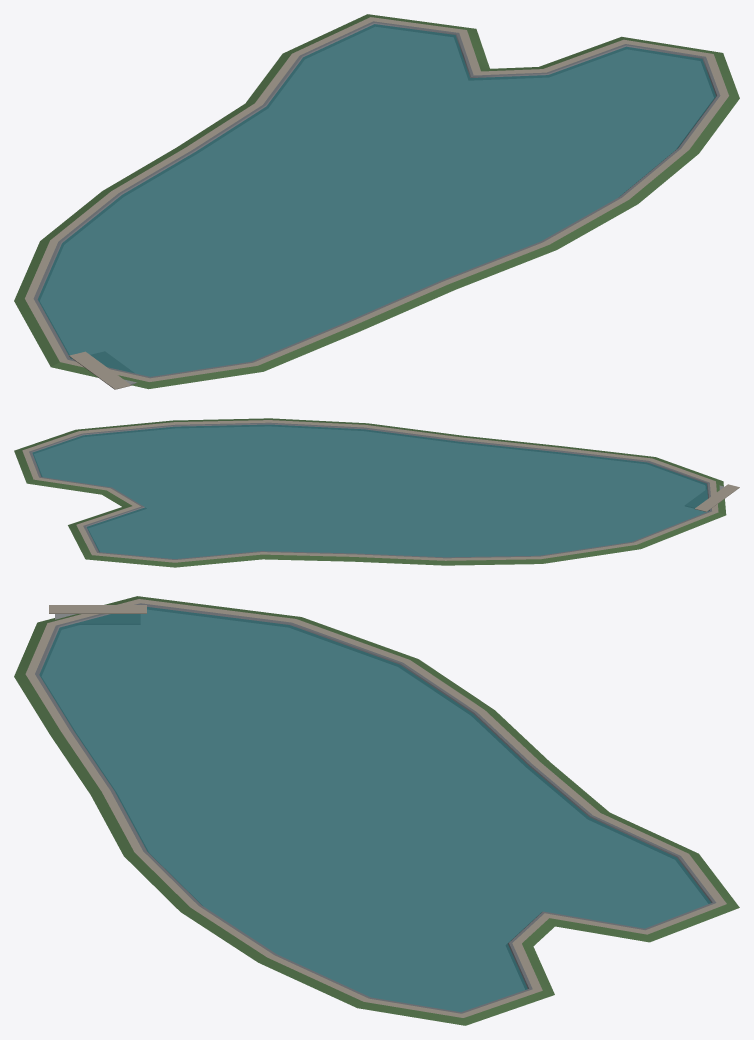
File: water_ho_chien_thang.glb
The picture shows the model from 3 angles, top to bottom: view 1: azimuth 30°, elevation 25°; view 2: azimuth 150°, elevation 25°; view 3: azimuth 270°, elevation 25°; orthographic projection. The views are drawn at different scales.
Parts seen in each view (by area): view 1: water_surface_water_ho_chien_thang, shoreline_terrain_transition_verge_water_ho_chien_thang, lakeside_promenade_walkway_water_ho_chien_thang, embankment_stone_coping_water_ho_chien_thang, embankment_stone_slope_water_ho_chien_thang, dam_crest_ho_chien_thang; view 2: water_surface_water_ho_chien_thang, shoreline_terrain_transition_verge_water_ho_chien_thang, lakeside_promenade_walkway_water_ho_chien_thang, embankment_stone_coping_water_ho_chien_thang, embankment_stone_slope_water_ho_chien_thang, dam_crest_ho_chien_thang; view 3: water_surface_water_ho_chien_thang, shoreline_terrain_transition_verge_water_ho_chien_thang, lakeside_promenade_walkway_water_ho_chien_thang, embankment_stone_coping_water_ho_chien_thang, embankment_stone_slope_water_ho_chien_thang, dam_crest_ho_chien_thang.
Part boxes in pixels (x1,y1,x2,y2): water_surface_water_ho_chien_thang: [37, 24, 716, 376]; shoreline_terrain_transition_verge_water_ho_chien_thang: [14, 14, 739, 389]; lakeside_promenade_walkway_water_ho_chien_thang: [25, 17, 728, 381]; embankment_stone_coping_water_ho_chien_thang: [33, 21, 720, 378]; embankment_stone_slope_water_ho_chien_thang: [36, 23, 716, 358]; dam_crest_ho_chien_thang: [69, 351, 131, 389]; water_surface_water_ho_chien_thang: [32, 424, 708, 558]; shoreline_terrain_transition_verge_water_ho_chien_thang: [14, 418, 726, 567]; lakeside_promenade_walkway_water_ho_chien_thang: [22, 420, 718, 562]; embankment_stone_coping_water_ho_chien_thang: [29, 422, 711, 559]; embankment_stone_slope_water_ho_chien_thang: [31, 423, 709, 551]; dam_crest_ho_chien_thang: [695, 484, 739, 511]; water_surface_water_ho_chien_thang: [39, 607, 710, 1012]; shoreline_terrain_transition_verge_water_ho_chien_thang: [14, 596, 739, 1025]; lakeside_promenade_walkway_water_ho_chien_thang: [25, 599, 726, 1017]; embankment_stone_coping_water_ho_chien_thang: [35, 603, 716, 1013]; embankment_stone_slope_water_ho_chien_thang: [38, 605, 712, 988]; dam_crest_ho_chien_thang: [49, 605, 146, 613].
Bounding box in the file's own units: 499 × 1.82 × 356.
